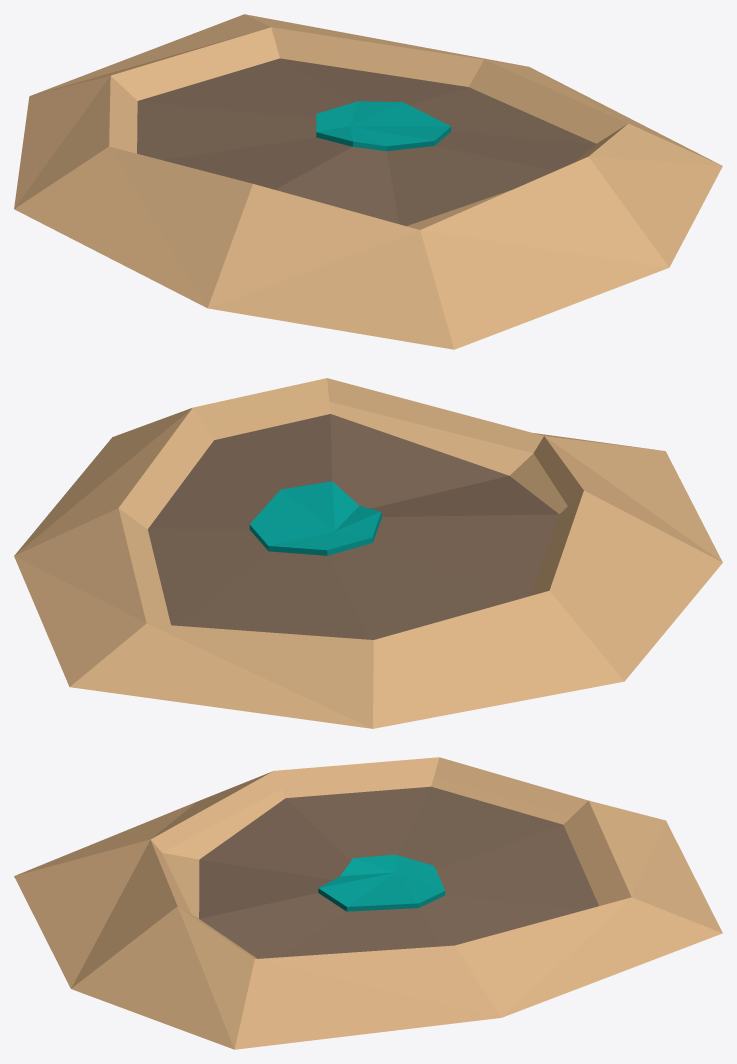
Rendered from Puddle.fbx.
3 views of the same model, one above another, from view 1: azimuth 30°, elevation 25°; view 2: azimuth 150°, elevation 25°; view 3: azimuth 270°, elevation 25° (orthographic). The views are drawn at different scales.
Parts seen in each view (by area): view 1: Puddle; view 2: Puddle; view 3: Puddle.
Boxes of the visible parts, <box> form: Puddle: <box>14,14,722,349</box>; Puddle: <box>14,378,722,728</box>; Puddle: <box>14,757,722,1049</box>.
Bounding box in the file's own units: 463 × 513 × 60.8.
